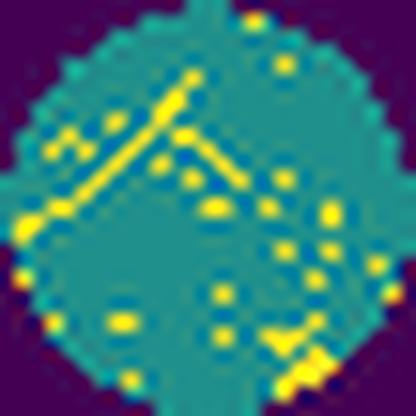Scratch: (14, 66, 208, 242), (170, 123, 252, 194)
